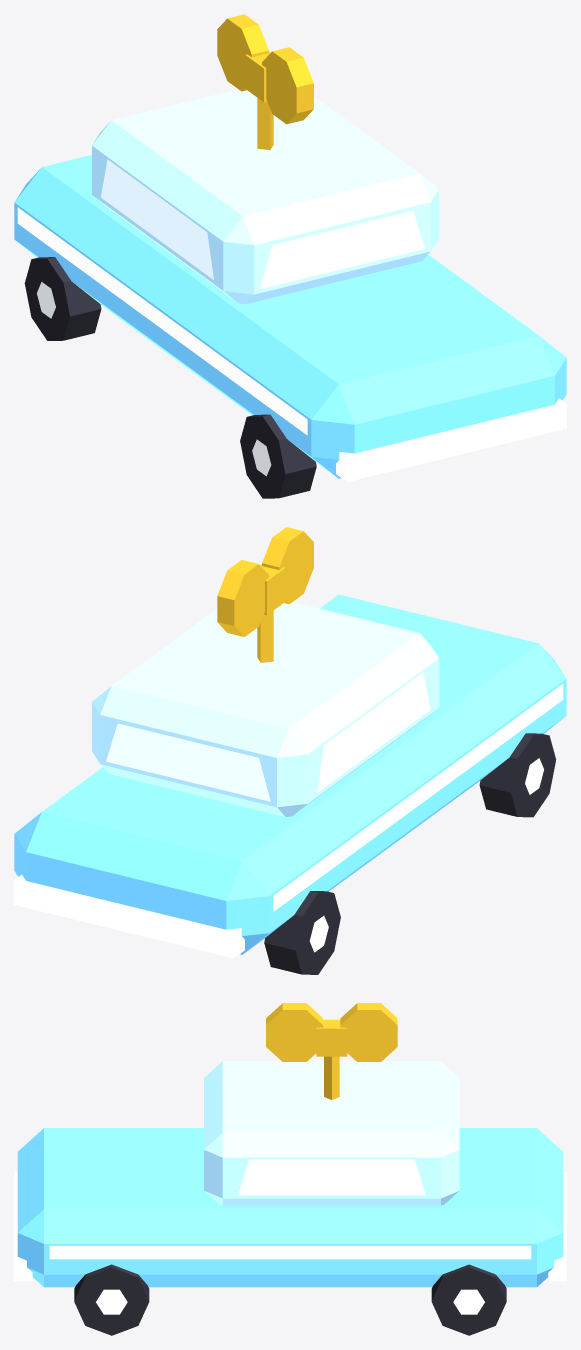
File: windup-car.glb
3 renders of one model, top to bottom at view 1: azimuth 30°, elevation 25°; view 2: azimuth 150°, elevation 25°; view 3: azimuth 270°, elevation 25°, orthographic. The views are drawn at different scales.
Parts seen in each view (by area): view 1: windup-car; view 2: windup-car; view 3: windup-car.
Boxes of the visible parts, x1,y1,x2,y2 form: windup-car: (14,14,566,498); windup-car: (14,527,566,974); windup-car: (14,1003,566,1335).
Size of the model in its own units: 1.39 by 1.61 by 2.94.
